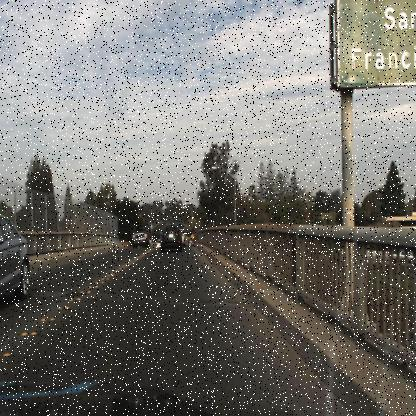car: (1, 209, 30, 313), (159, 222, 184, 255), (133, 227, 150, 248)
